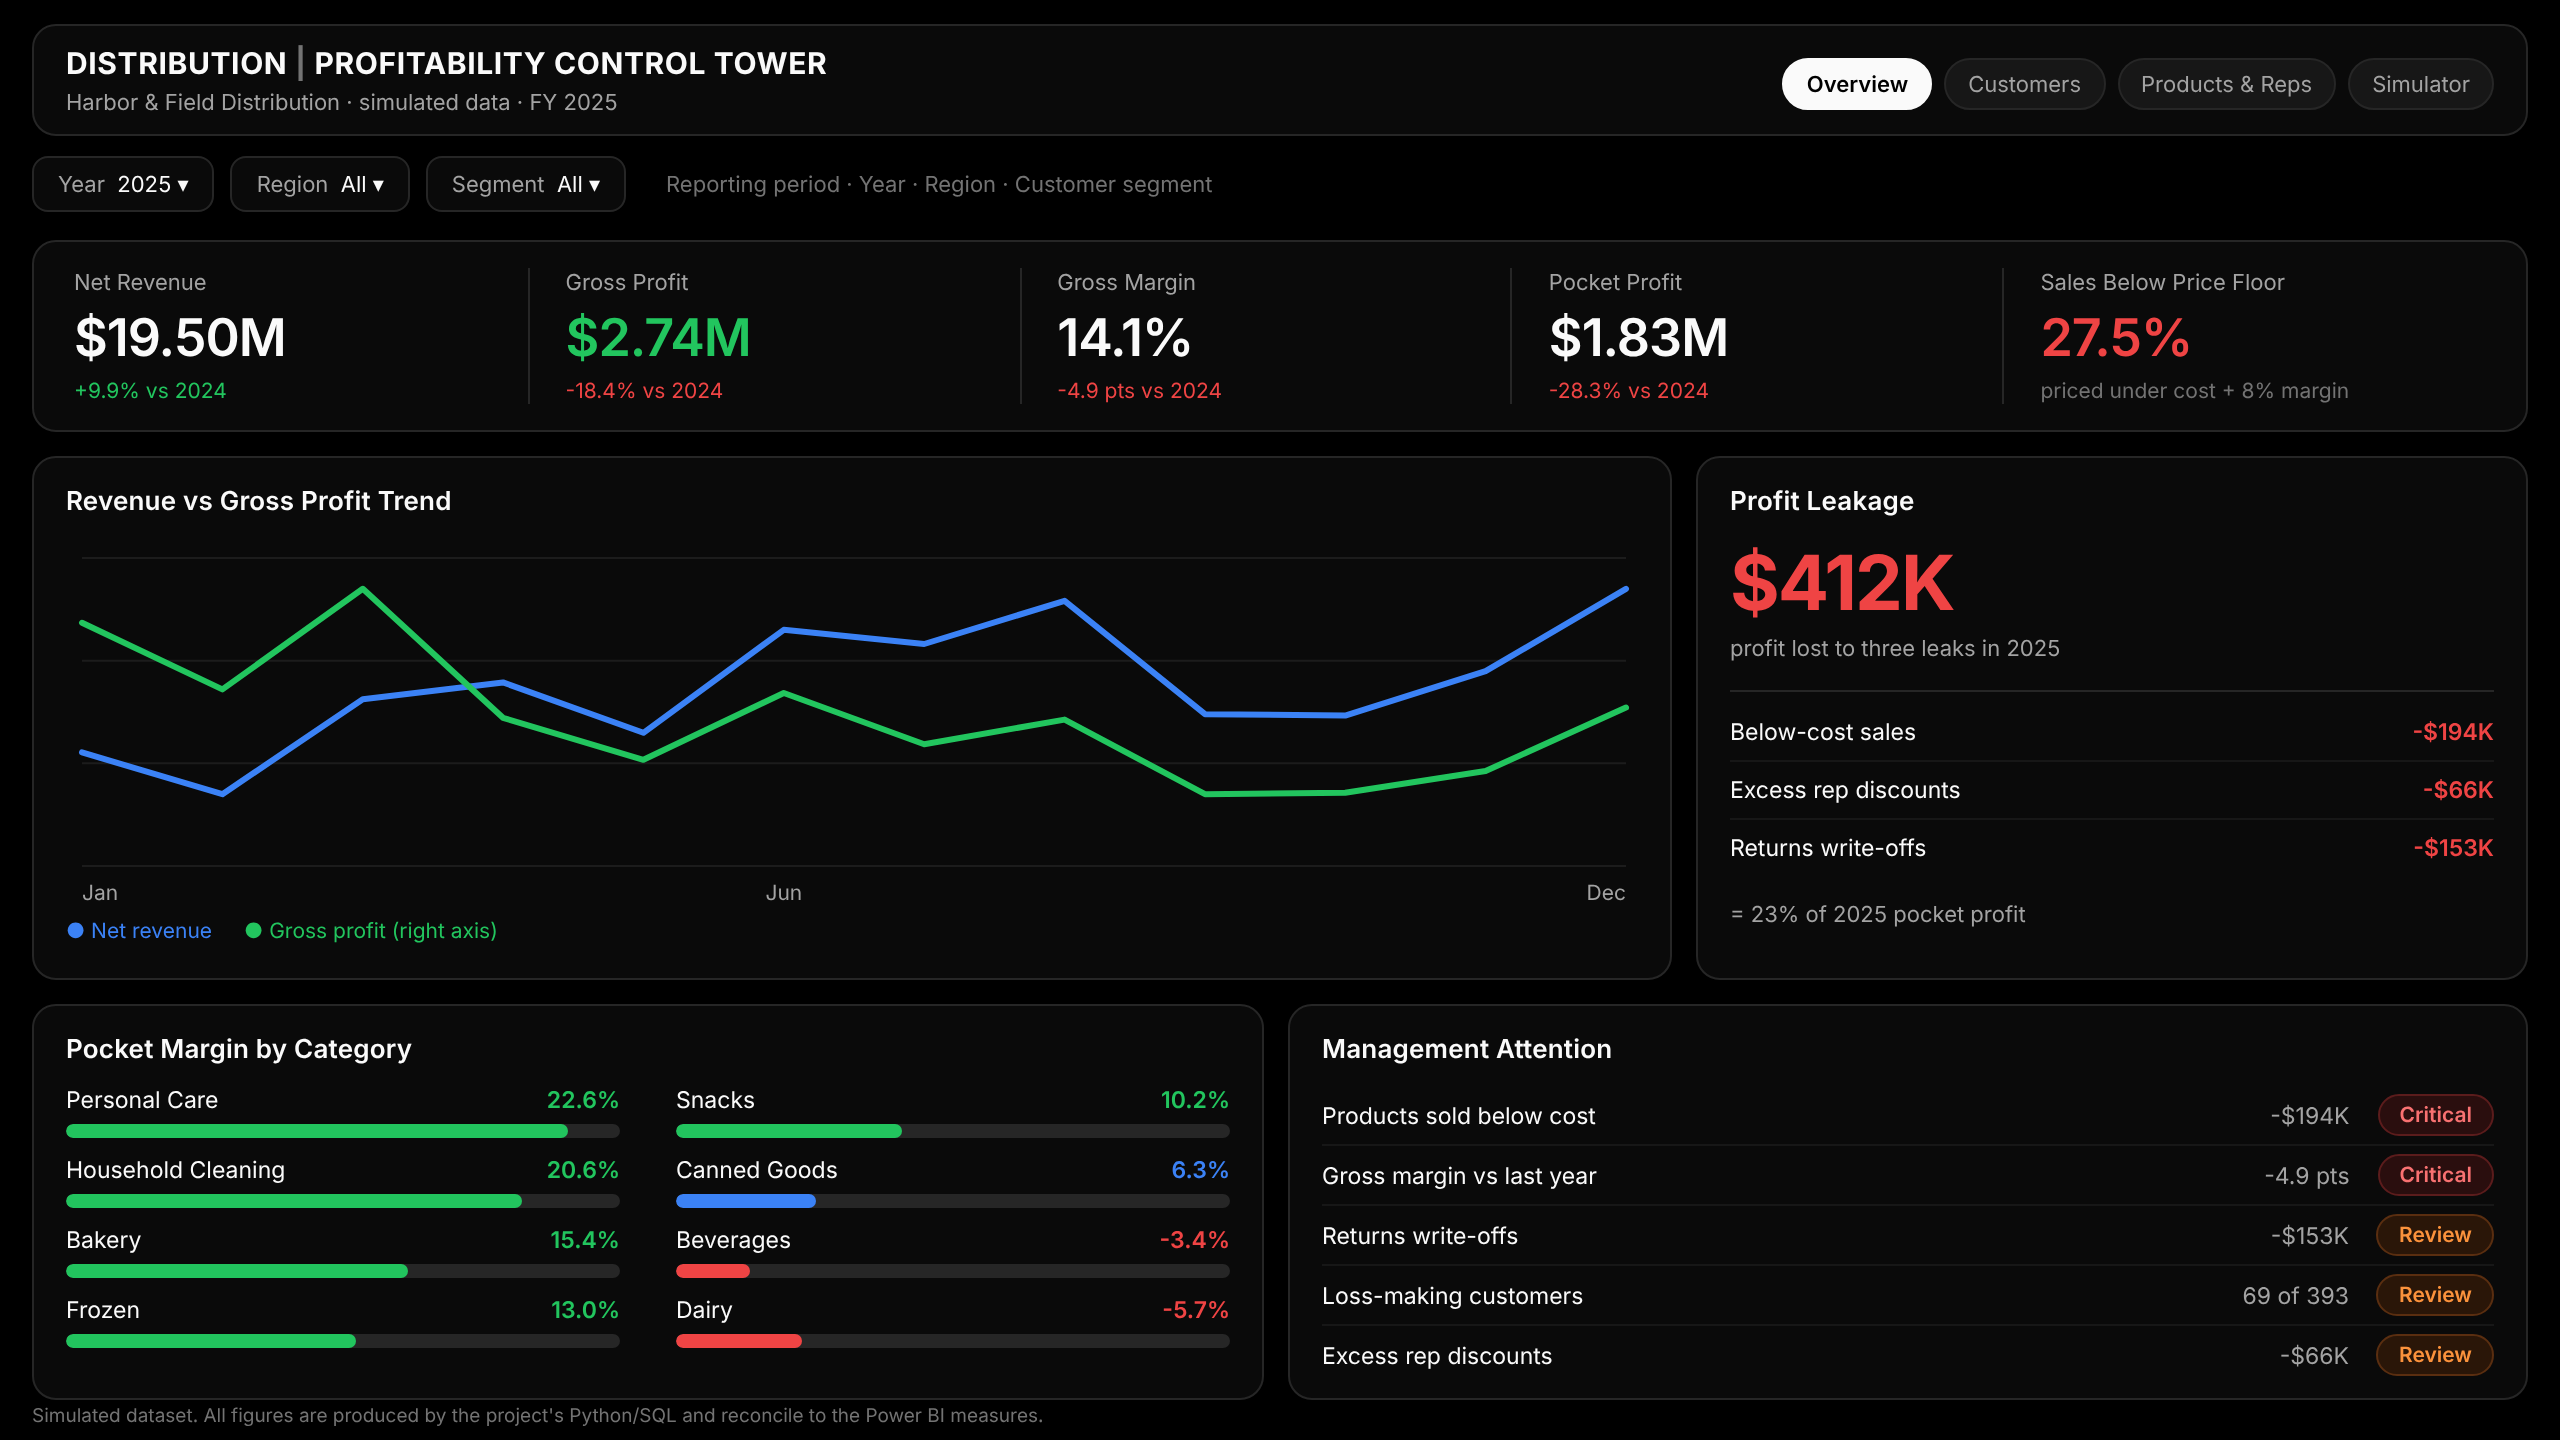

What the dashboard file says about the page in this screenshot:
{"tool":"powerbi","page":{"name":"Overview","canvas":[1280,720],"ordinal":0},"visuals":[{"type":"shape","box":[12.2,4.3,1252.6,94.7],"z":0,"group":"g1"},{"type":"shape","title":"Pocket Margin by Segment","box":[10,103.3,1252.6,120.5],"z":0},{"type":"cardVisual","fields":{"Data":["_Measures.Net Revenue","_Measures.Gross Profit","_Measures.Gross Margin %","_Measures.Pocket Profit","_Measures.Sales Below Price Floor %"]},"box":[16,120,1248,98.8],"z":1000},{"type":"textbox","box":[24.3,21.5,520.8,30.1],"z":2000,"group":"g1"},{"type":"lineChart","title":"Revenue vs Gross Profit Trend","fields":{"Category":["dim_date.month_name"],"Y":["_Measures.Net Revenue"],"Y2":["_Measures.Gross Profit"]},"box":[11.5,228.1,820.7,264],"z":2000},{"type":"cardVisual","fields":{"Data":["_Measures.Report Subtitle"]},"box":[61.6,59.1,520,24],"z":3000,"group":"g1"},{"type":"shape","box":[848,229.6,416.1,264],"z":3000},{"type":"slicer","fields":{"Values":["dim_date.date.Variation.Date Hierarchy.Year"]},"box":[882.4,63.4,110.5,31.6],"z":4000,"group":"g1"},{"type":"textbox","box":[887.2,237.6,200,26],"z":4000},{"type":"pageNavigator","box":[584.7,18,667.2,37.3],"z":5000,"group":"g1"},{"type":"cardVisual","fields":{"Data":["_Measures.Profit Leakage"]},"box":[885.4,263.2,343.4,71.1],"z":5000},{"type":"slicer","fields":{"Values":["dim_customer.region"]},"box":[992.9,63.4,119.1,31.6],"z":6000,"group":"g1"},{"type":"tableEx","fields":{"Values":["Leak Items.Item","_Measures.Leak Value"]},"box":[879,317.3,325.9,144.4],"z":6000},{"type":"slicer","fields":{"Values":["dim_customer.segment"]},"box":[1112,63.4,140,32],"z":7000,"group":"g1"},{"type":"cardVisual","fields":{"Data":["_Measures.Leakage % of Pocket Profit"]},"box":[885.4,448.7,391.9,39.9],"z":7000},{"type":"textbox","box":[589.7,73.4,292.6,22.2],"z":8000,"group":"g1"},{"type":"tableEx","fields":{"Values":["dim_product.category","_Measures.SVG Category Bar","_Measures.Category Rank"]},"box":[10,498,754,218],"z":8000},{"type":"tableEx","title":"Management Attention","fields":{"Values":["Attention Items.Item","_Measures.Attention Display","_Measures.SVG Attention Pill"]},"box":[769.1,497.9,499.3,215.2],"z":9000},{"type":"group","id":"g1","title":"Group 1","box":[12.2,4.3,1252.6,94.7],"z":10000}]}

Visuals, with their boxes in screenshot pixels (x1, y1, x2, y2), scaled from the page's 1280x720 canvas onto the 2560x1440 screenshot:
shape: 24, 9, 2530, 198
"Pocket Margin by Segment" shape: 20, 207, 2525, 448
cardVisual - _Measures.Net Revenue x _Measures.Gross Profit: 32, 240, 2528, 438
textbox: 49, 43, 1090, 103
"Revenue vs Gross Profit Trend" lineChart: 23, 456, 1664, 984
cardVisual - _Measures.Report Subtitle: 123, 118, 1163, 166
shape: 1696, 459, 2528, 987
slicer - dim_date.date.Variation.Date Hierarchy.Year: 1765, 127, 1986, 190
textbox: 1774, 475, 2174, 527
pageNavigator: 1169, 36, 2504, 111
cardVisual - _Measures.Profit Leakage: 1771, 526, 2458, 669
slicer - dim_customer.region: 1986, 127, 2224, 190
tableEx - Leak Items.Item x _Measures.Leak Value: 1758, 635, 2410, 923
slicer - dim_customer.segment: 2224, 127, 2504, 191
cardVisual - _Measures.Leakage % of Pocket Profit: 1771, 897, 2555, 977
textbox: 1179, 147, 1765, 191
tableEx - dim_product.category x _Measures.SVG Category Bar: 20, 996, 1528, 1432
"Management Attention" tableEx: 1538, 996, 2537, 1426
"Group 1" group: 24, 9, 2530, 198
